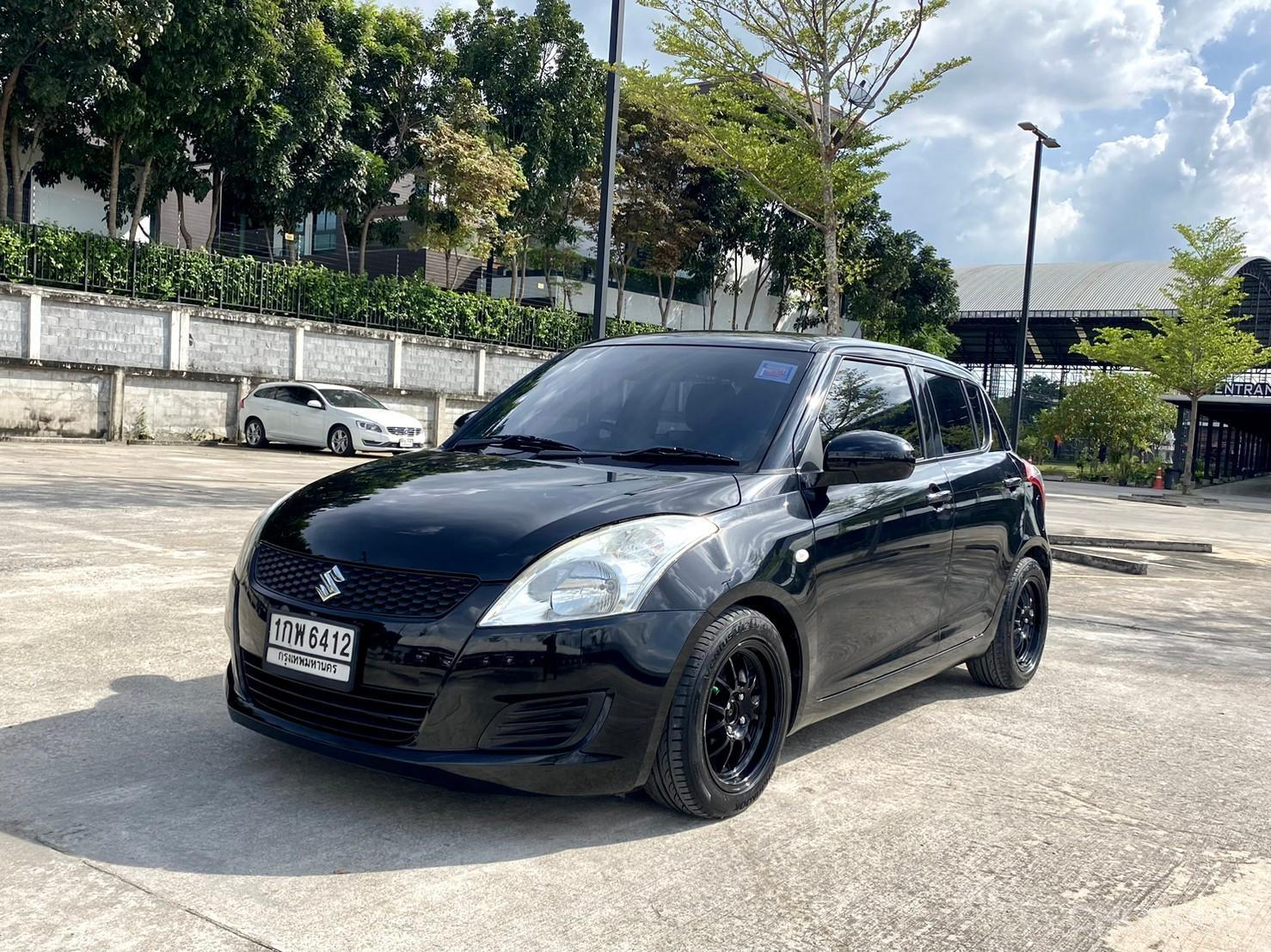license-plate: (261, 606, 359, 688)
